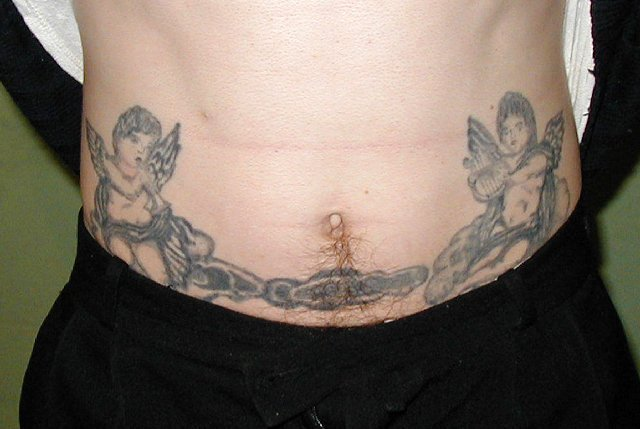tatu1_angel: (428, 91, 575, 305), (84, 102, 212, 284)
